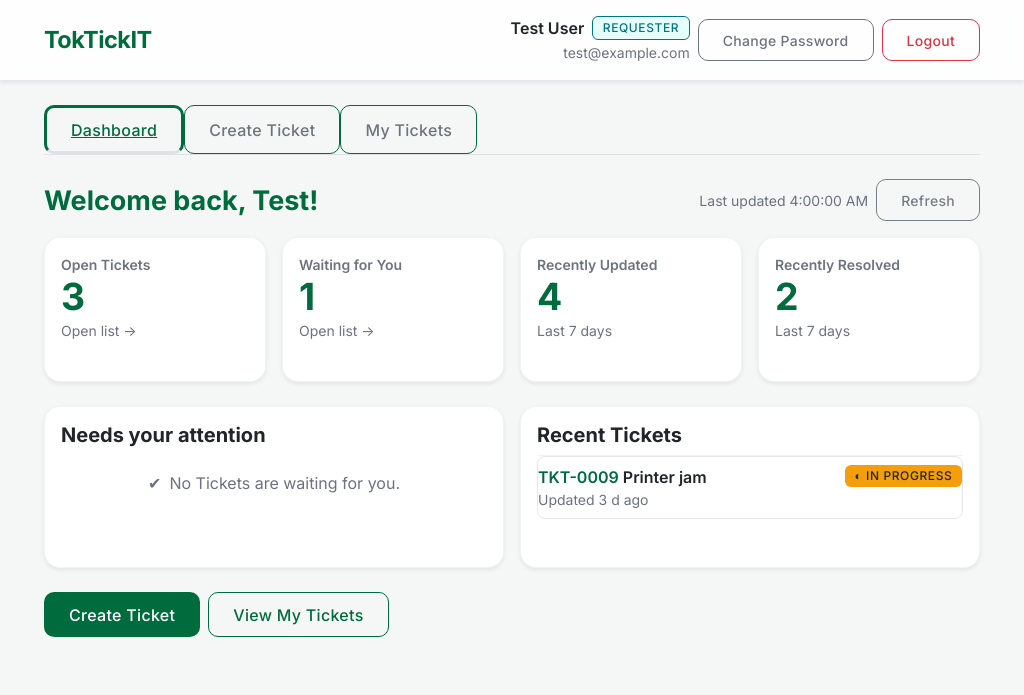
Test: UI-25: role navigation, landing page and dashboard drill-down (Issue #33) › the marked entry follows the page, uses aria-current, and the brand returns to the Dashboard
Expected: the link "Open Tickets 3 Open list →" is shown, [44,237,266,382]
Click the button "My Tickets": (409, 130) [340,105,477,154]
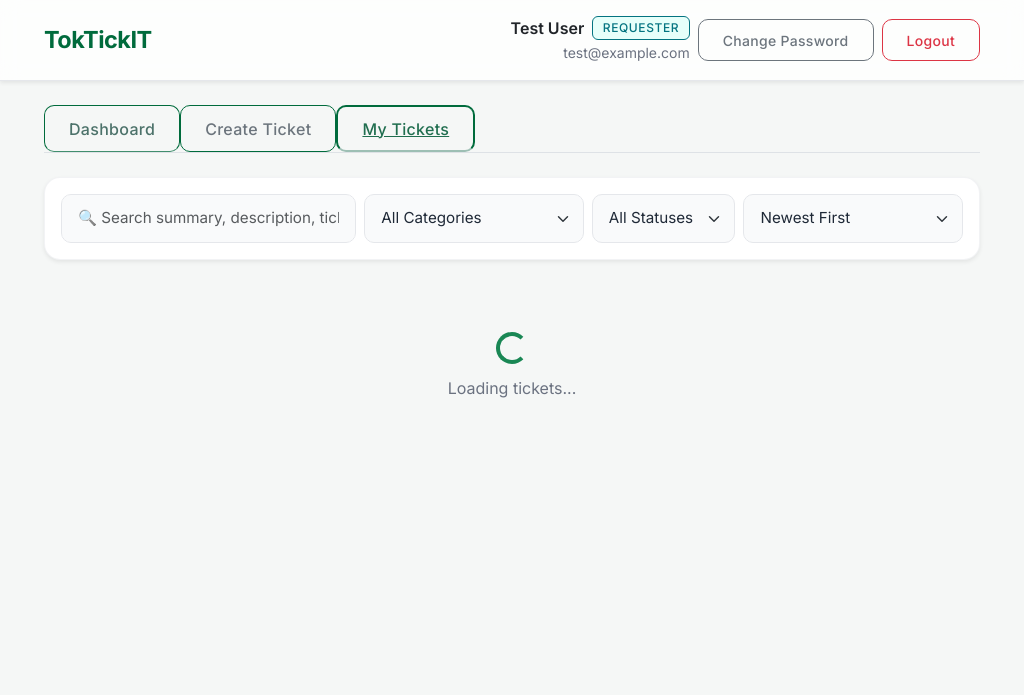
Click the button "Create Ticket": (258, 129) [180,105,336,152]
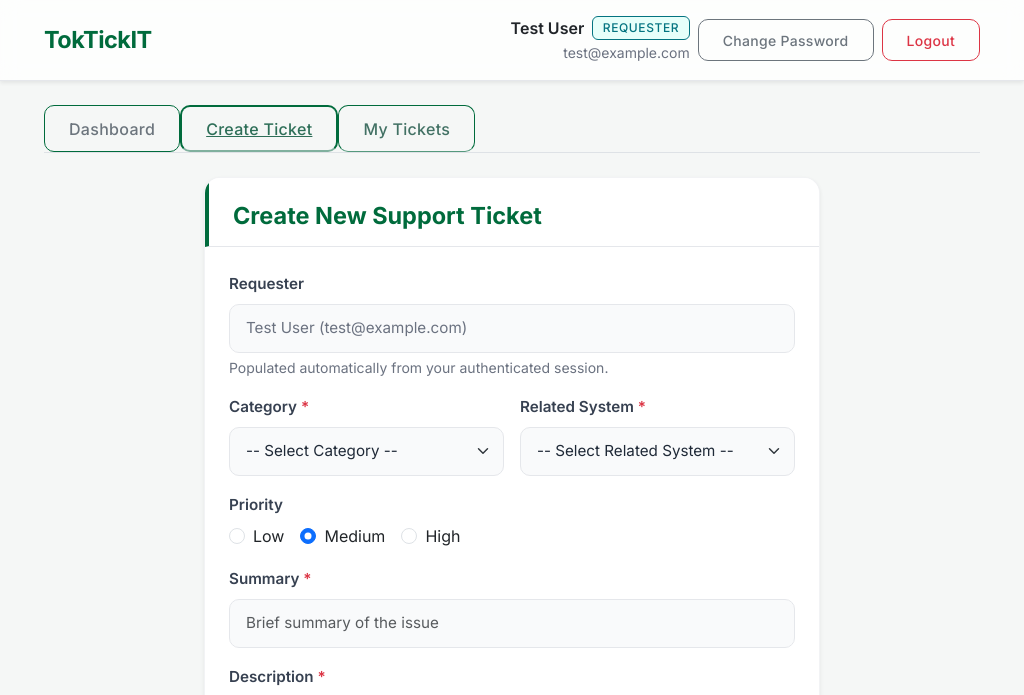
Click the link "TokTickIT": (98, 40) [44,17,152,63]
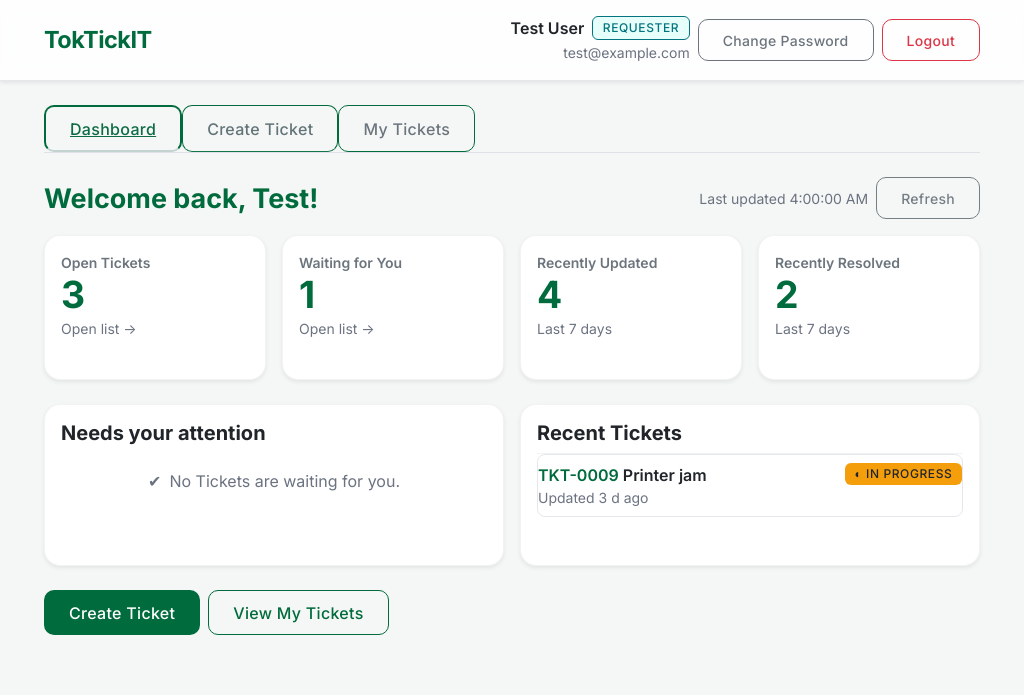
Now the link "Open Tickets 3 Open list →" is shown, box [44,235,266,380]
